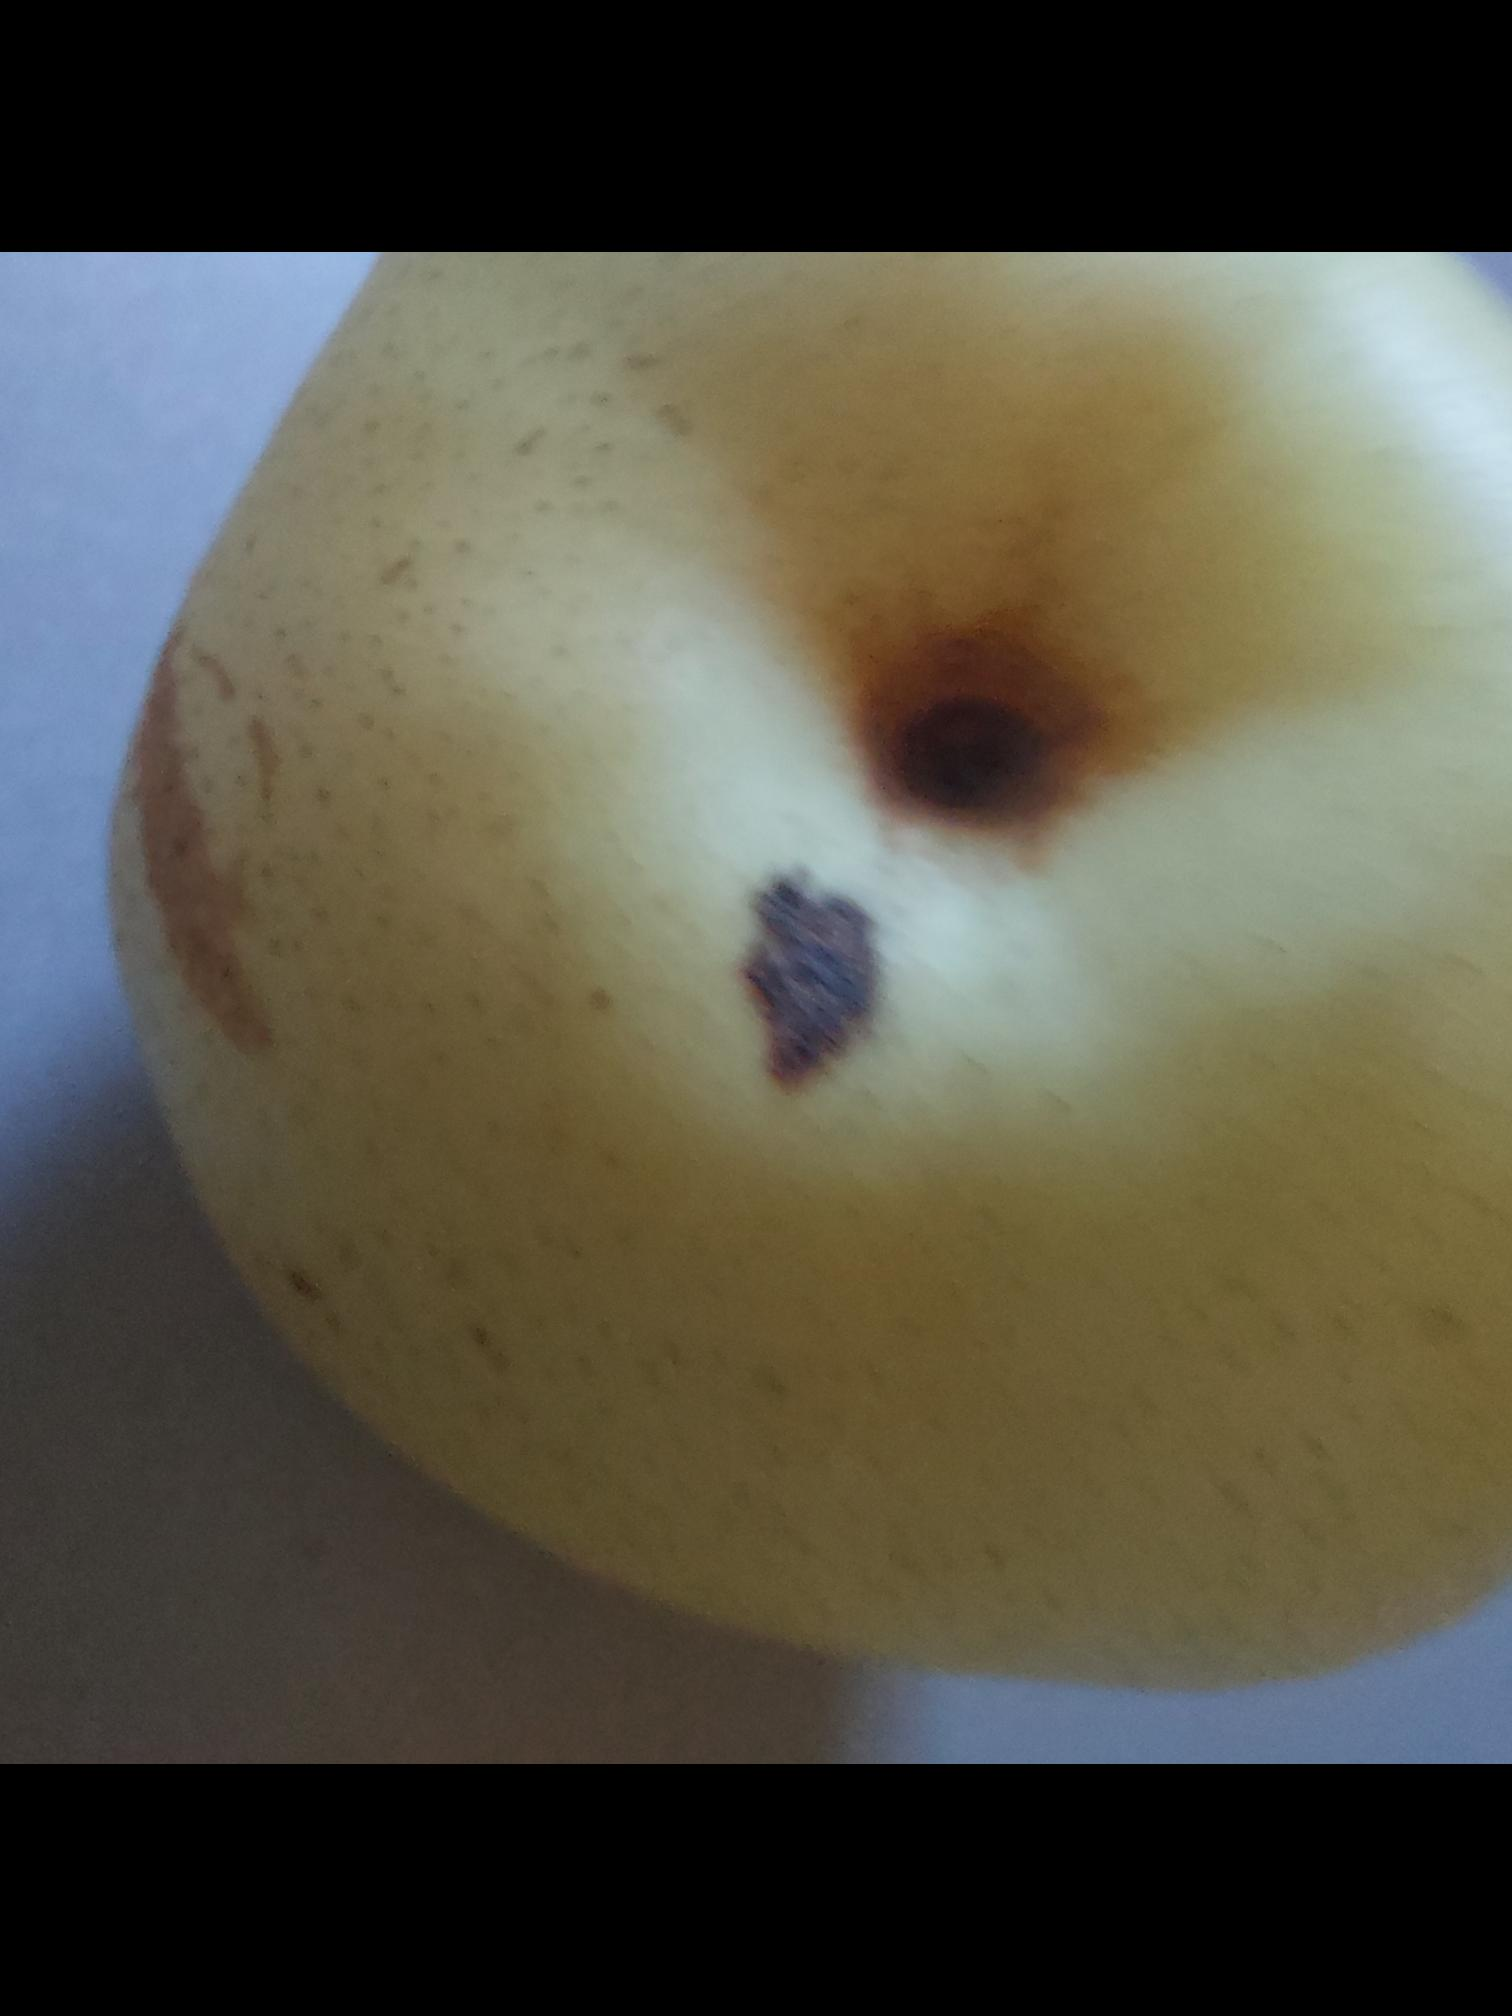Good Pear: (21, 252, 1512, 1764)
